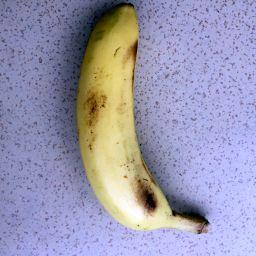Banana Ripe: (72, 1, 211, 251)
